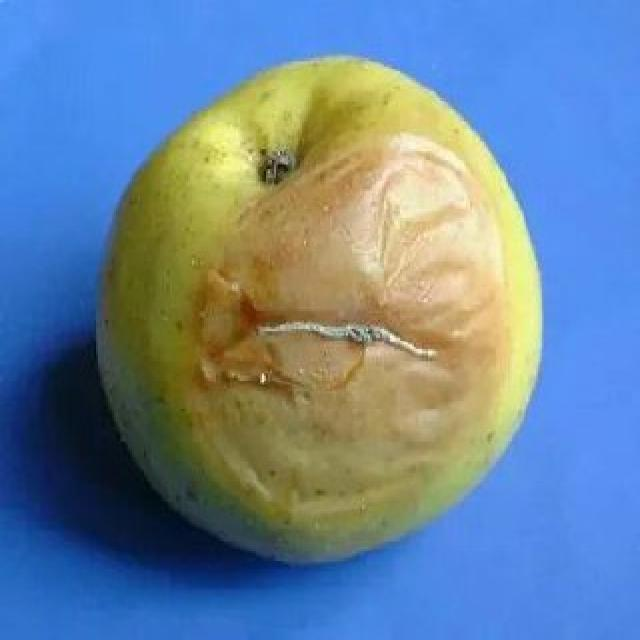Rotten: (89, 56, 548, 542)
